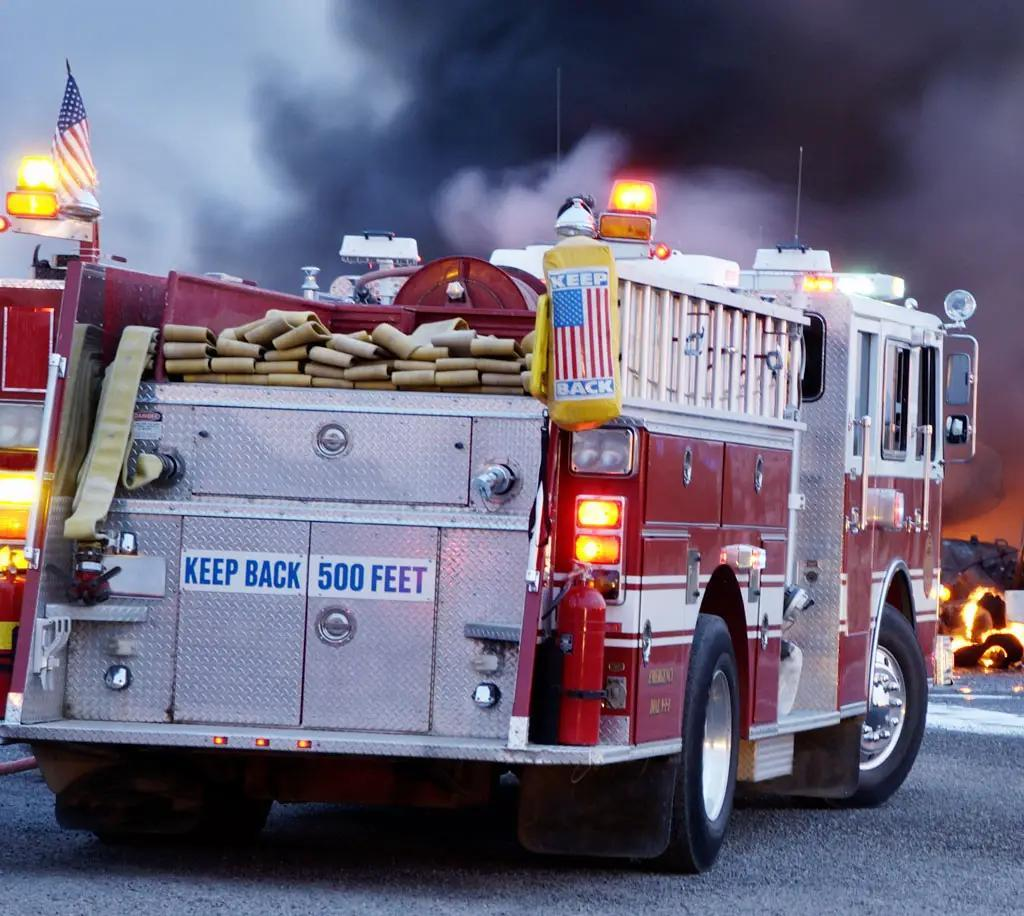Fire-engine: (0, 183, 980, 878)
